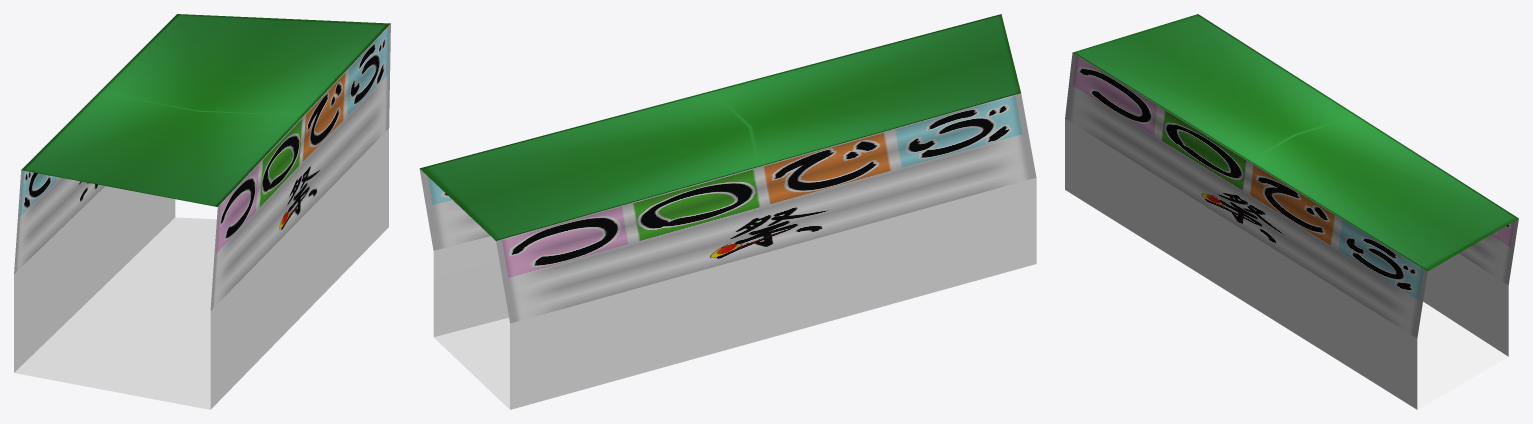
Rendered from CourseWinter_Wall_R_11_8.fbx.
3 renders of one model, left to right at view 1: azimuth 30°, elevation 25°; view 2: azimuth 150°, elevation 25°; view 3: azimuth 270°, elevation 25°, orthographic. The views are drawn at different scales.
Visible parts, largest first — view 1: polySurface518; view 2: polySurface518; view 3: polySurface518.
Boxes of the visible parts, box(x1,y1,x2,y2) form: polySurface518: box(14, 14, 390, 409); polySurface518: box(419, 14, 1036, 409); polySurface518: box(1065, 14, 1518, 409).
Size of the model in its own units: 5.74 by 2.99 by 5.77.
Materials: 1 (1 with a texture image).
